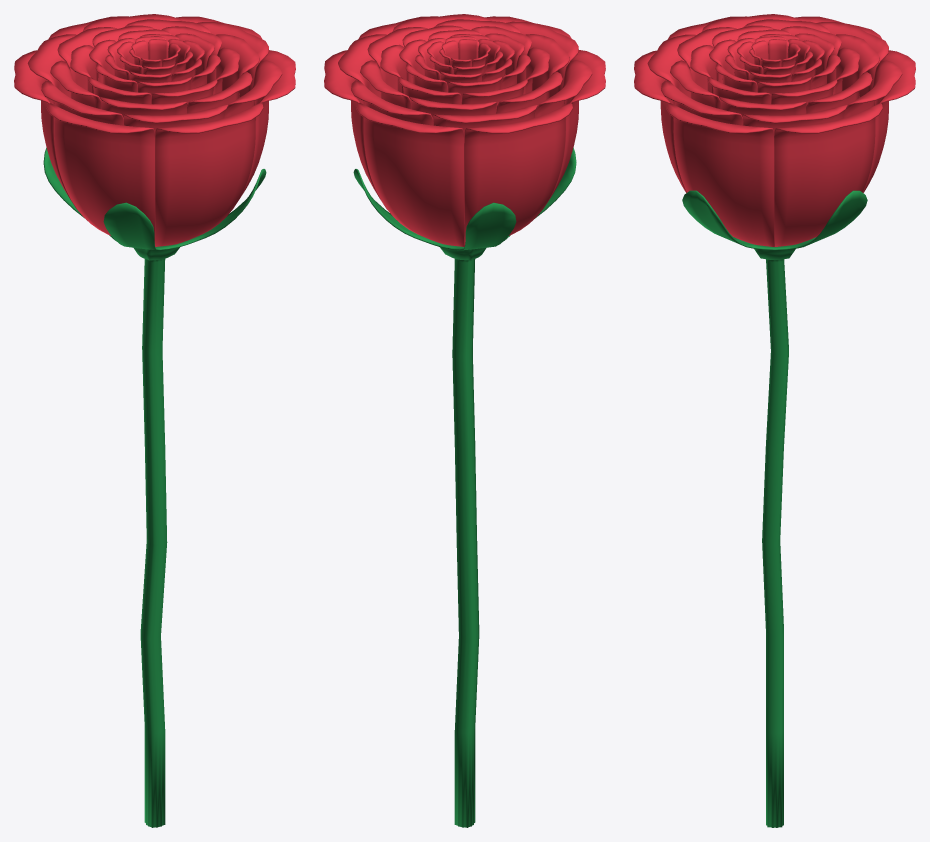
File: rose.fbx
3 renders of one model, left to right at view 1: azimuth 30°, elevation 25°; view 2: azimuth 150°, elevation 25°; view 3: azimuth 270°, elevation 25°, orthographic.
Parts seen in each view (by area): view 1: rose; view 2: rose; view 3: rose.
Boxes of the visible parts, box(x1,y1,x2,y2) form: rose: box(14, 14, 295, 827); rose: box(324, 14, 605, 827); rose: box(634, 14, 915, 827).
Bounding box in the file's own units: 184 × 573 × 189.
